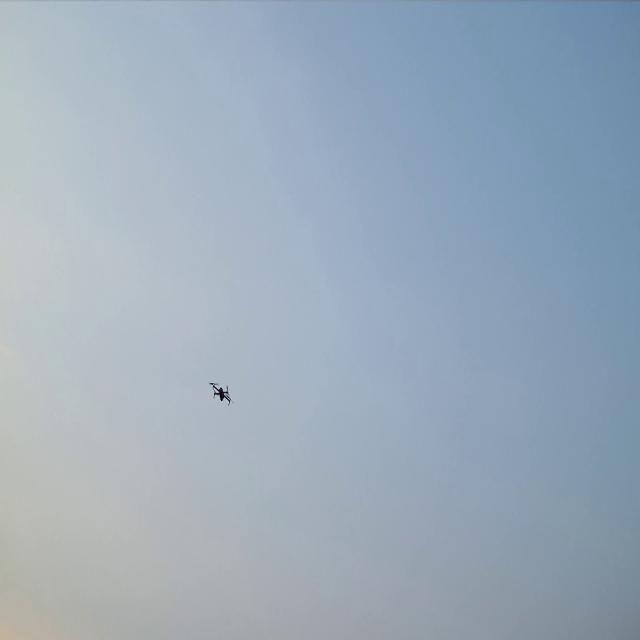UAV: (211, 383, 230, 403)
